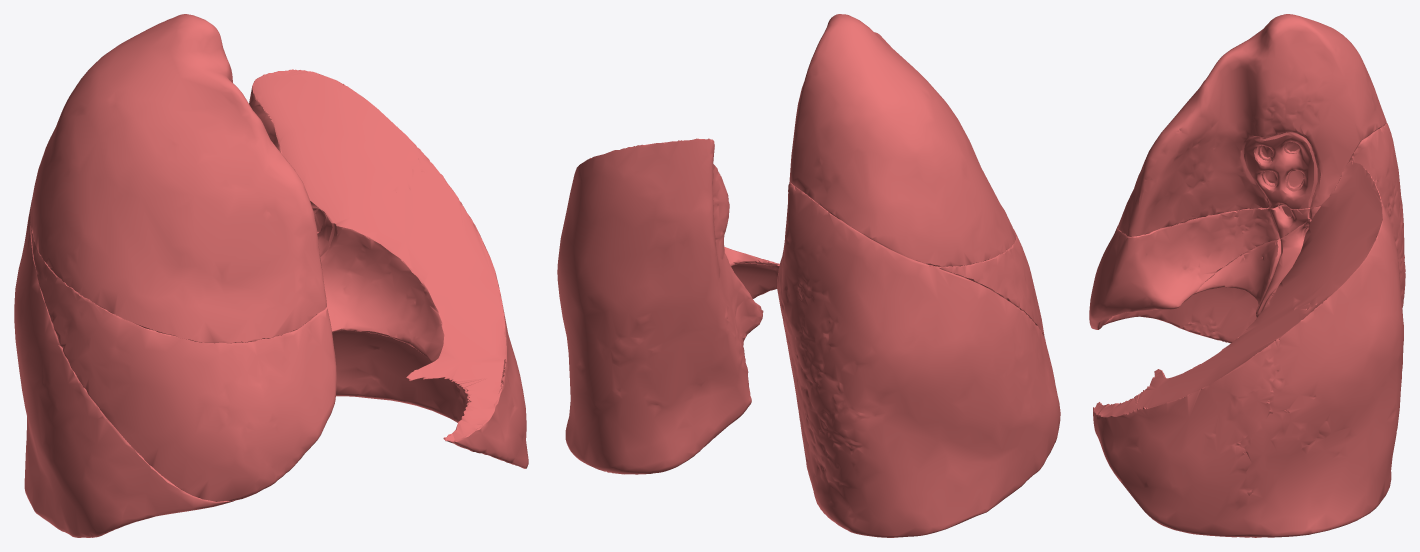
The model's file is paruParu.glb.
3 views of the same model, side by side, from view 1: azimuth 30°, elevation 25°; view 2: azimuth 150°, elevation 25°; view 3: azimuth 270°, elevation 25° (orthographic). The views are drawn at different scales.
Visible parts, largest first — view 1: paru-paru; view 2: paru-paru; view 3: paru-paru.
Part boxes in pixels (<box>): paru-paru: <box>14,14,528,537</box>; paru-paru: <box>557,14,1060,537</box>; paru-paru: <box>1089,14,1405,537</box>.
Size of the model in its own units: 0.2533 by 0.2576 by 0.1809.
